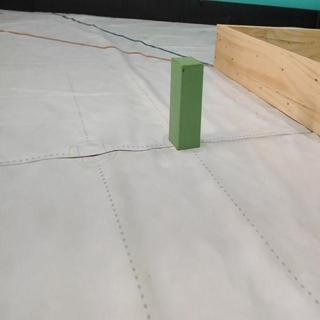greenbox: (167, 55, 205, 149)
